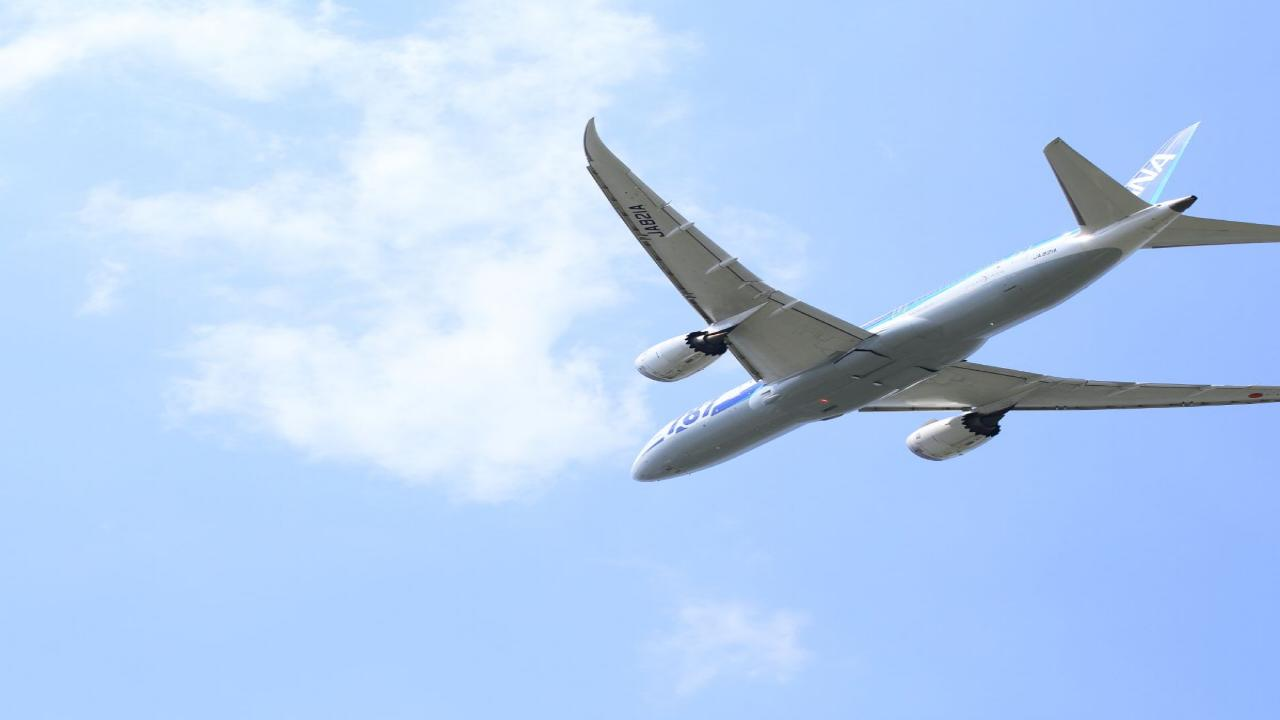Airplane: (531, 90, 1280, 504)
